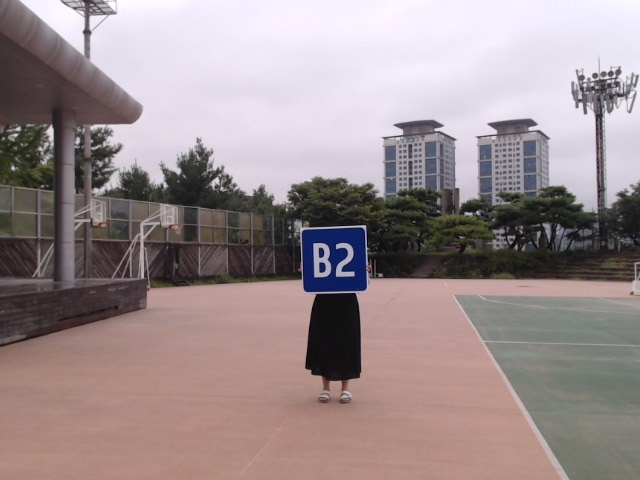delivery_b2: (301, 225, 369, 293)
